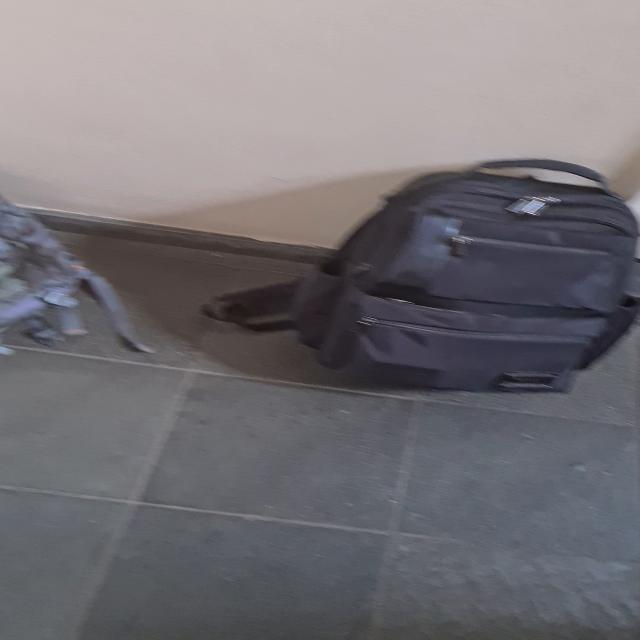backpack: (286, 154, 640, 402), (0, 190, 149, 356), (136, 355, 139, 357)
